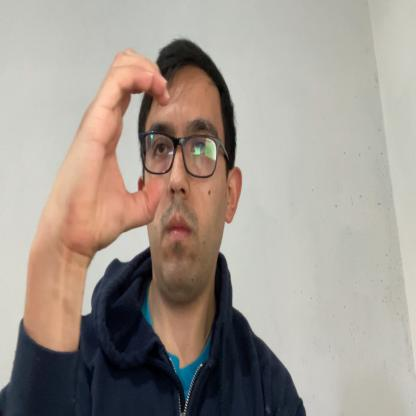C: (72, 48, 171, 249)
